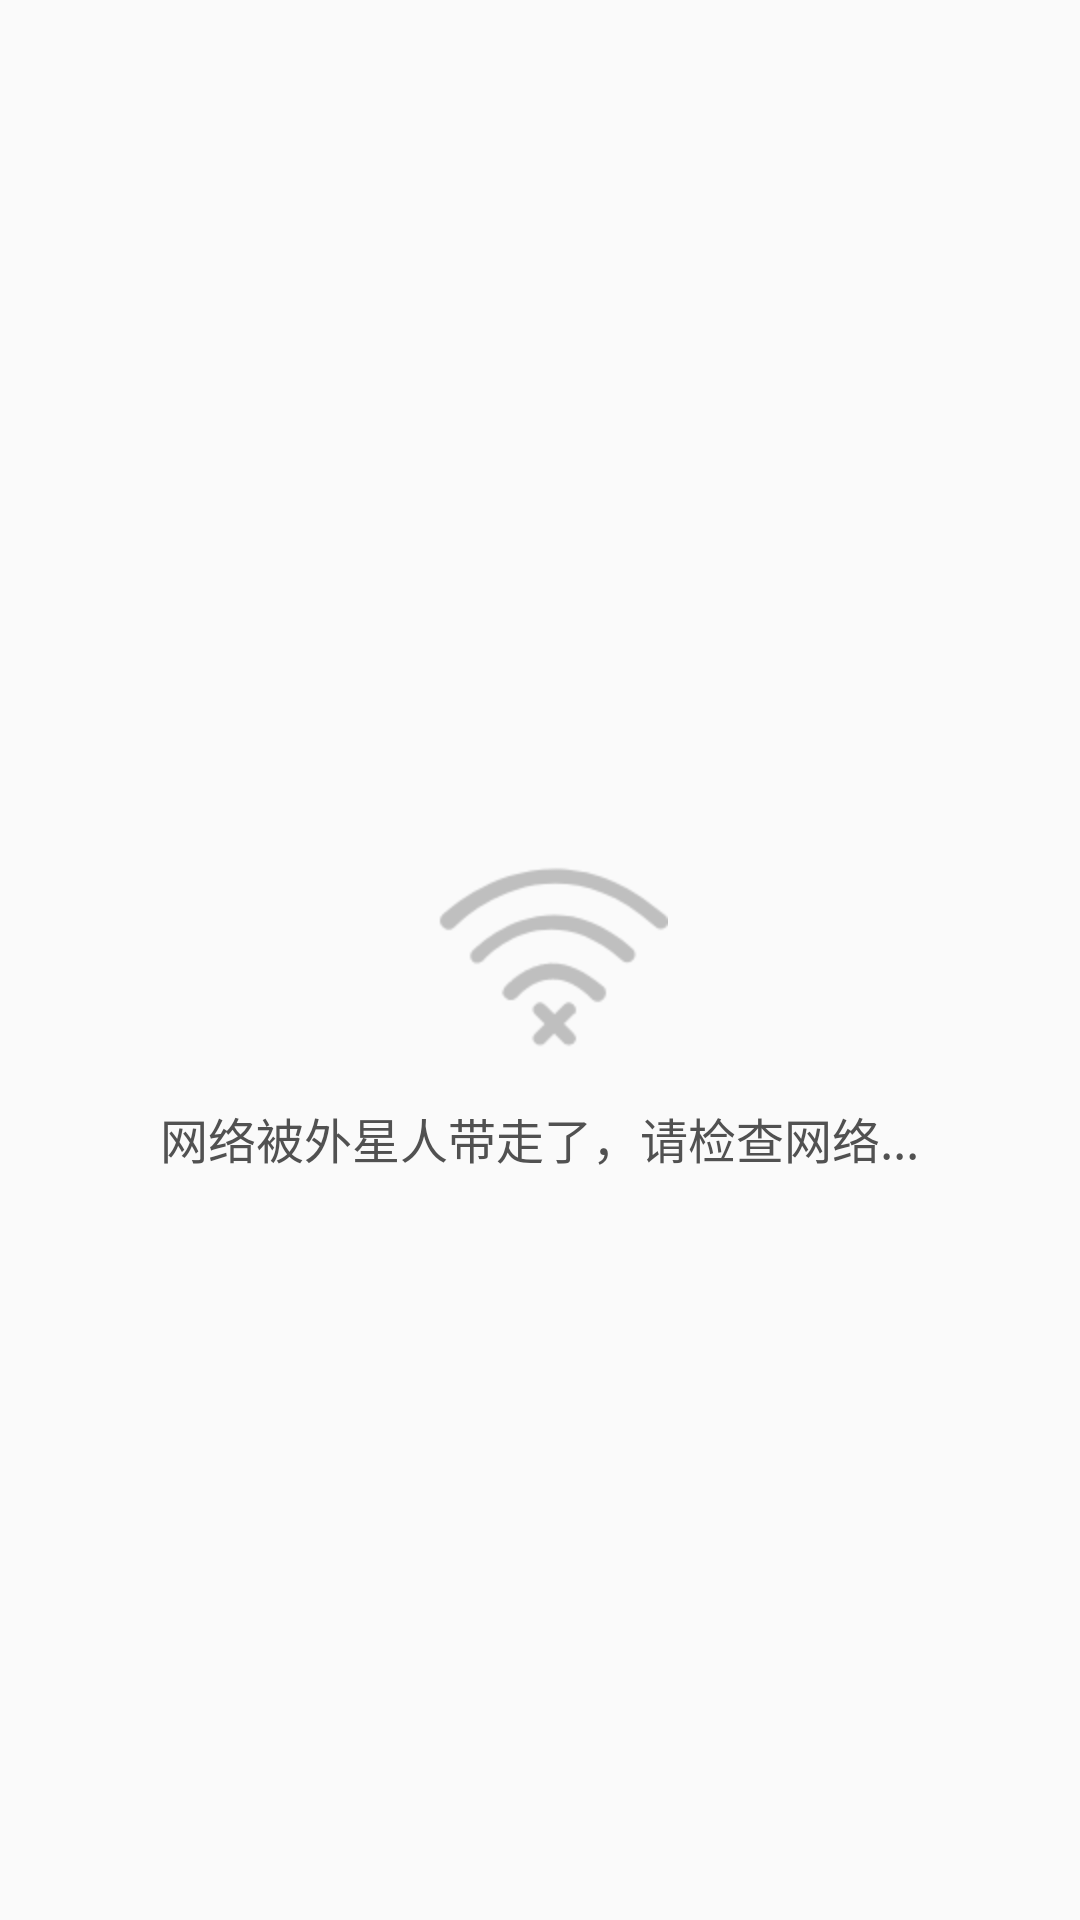

Named icons in this screenshot (1080*1920) and their bounding boxes, [x1,y1,x2,y2]:
not network: [440,869,668,1045]
